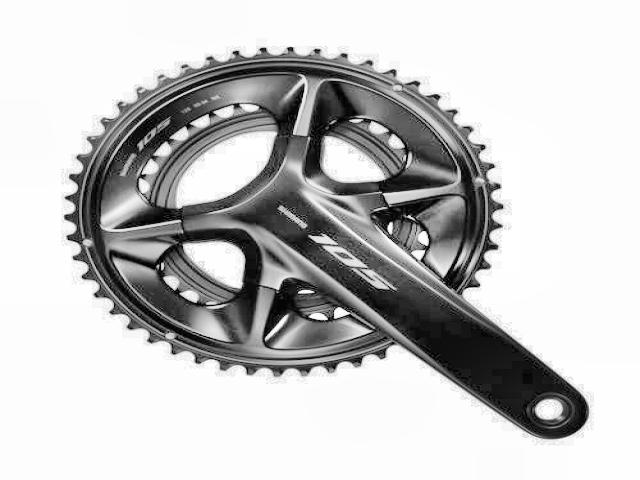cranks_set: (64, 42, 594, 441)
